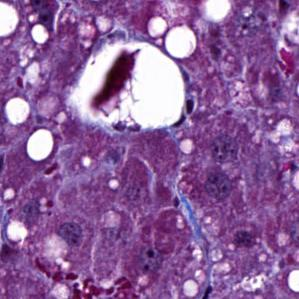ballooning: (65, 36, 189, 134)
